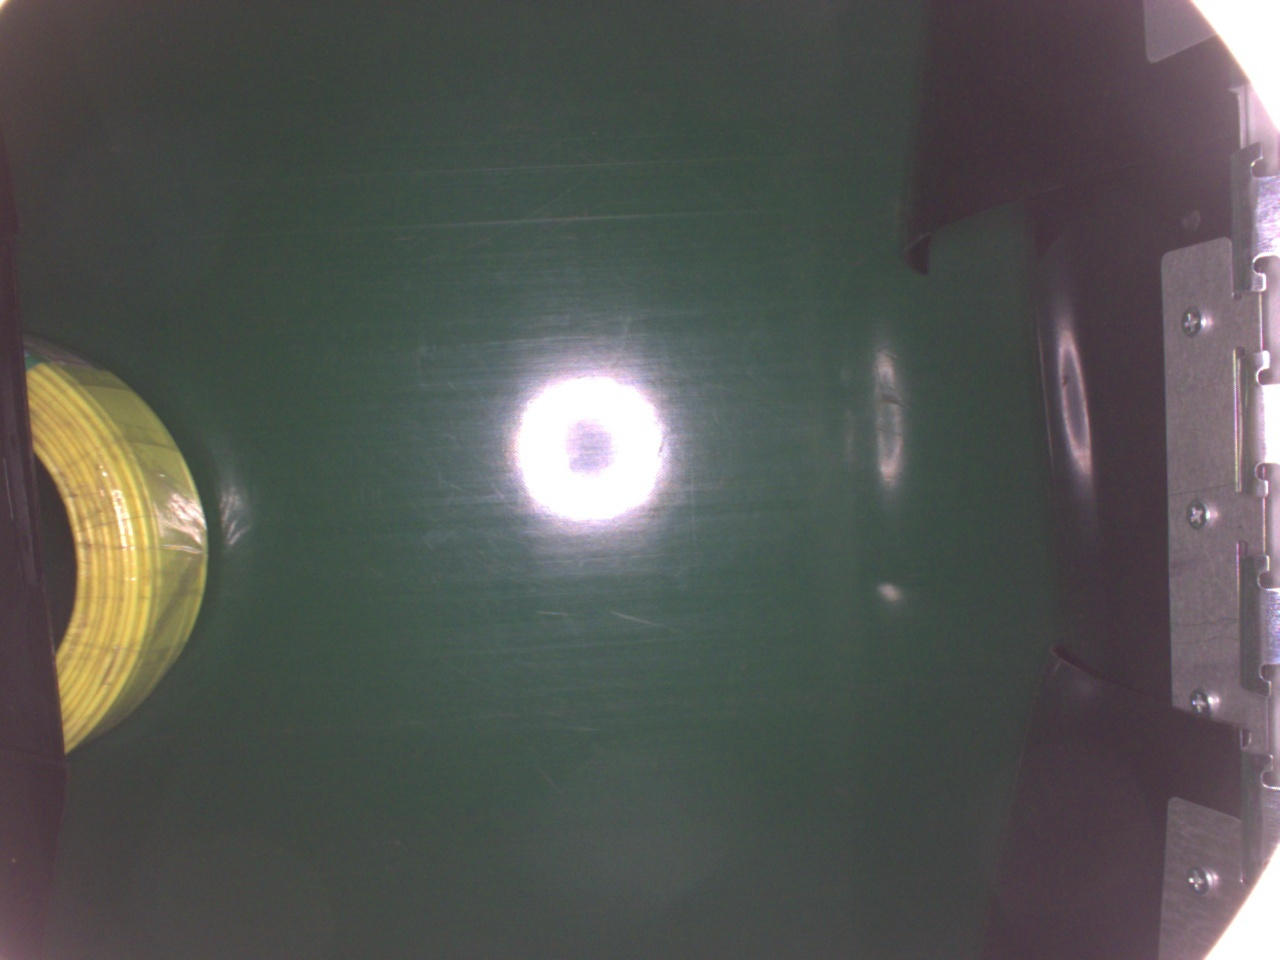yellow: (19, 329, 209, 756)
